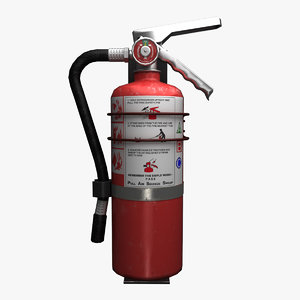fire_extinguisher: (68, 17, 222, 285)
